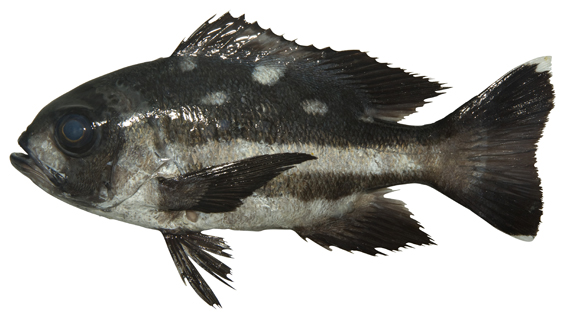fish: (10, 9, 555, 309)
